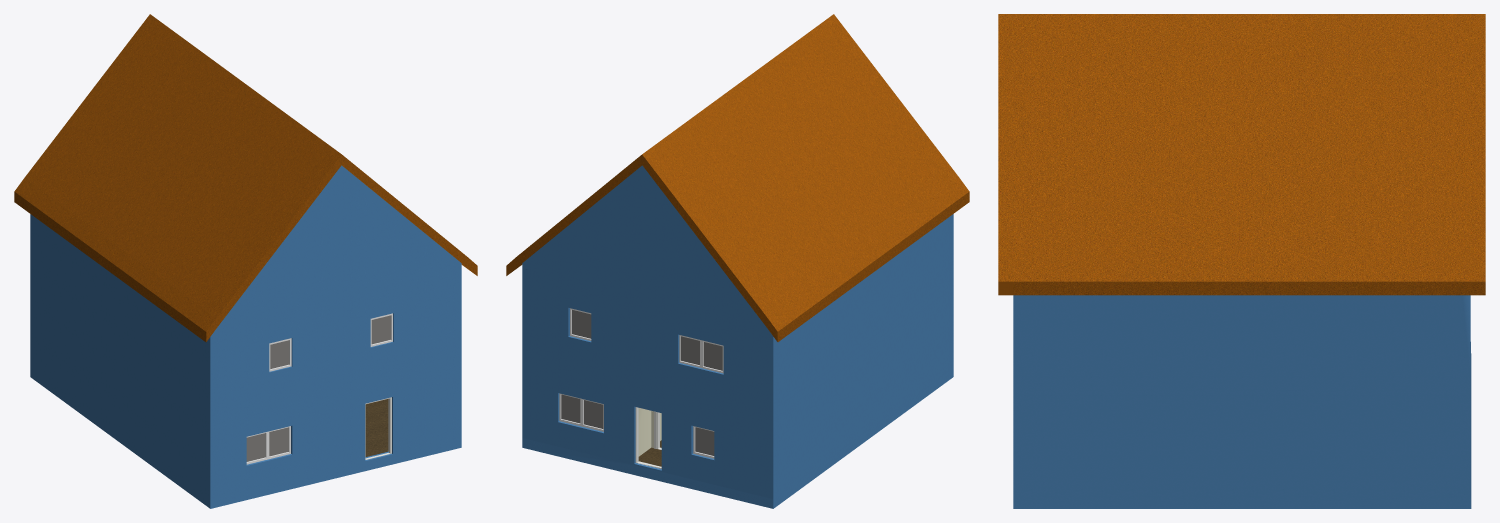
Rendered from HouseWithOutSkirting.FBX.
The picture shows the model from 3 angles, left to right: view 1: azimuth 30°, elevation 25°; view 2: azimuth 150°, elevation 25°; view 3: azimuth 270°, elevation 25°; orthographic projection. The views are drawn at different scales.
Parts seen in each view (by area): view 1: Box001, Box035, Box036, Box034, Box033; view 2: Box001, Box030, Box029, Box028, Box031, Box032, Box027; view 3: Box001.
Part boxes in pixels (x1,y1,x2,y2): Box001: [14, 14, 477, 508]; Box035: [269, 338, 291, 371]; Box036: [370, 313, 392, 346]; Box034: [268, 426, 290, 459]; Box033: [246, 431, 267, 464]; Box001: [506, 14, 969, 508]; Box030: [679, 335, 701, 367]; Box029: [701, 340, 723, 373]; Box028: [559, 393, 581, 426]; Box031: [570, 308, 591, 340]; Box032: [693, 426, 714, 458]; Box027: [582, 399, 603, 431]; Box001: [998, 14, 1485, 508].
Size of the model in its own units: 107 by 123 by 131.
45 materials, 8 textured.
